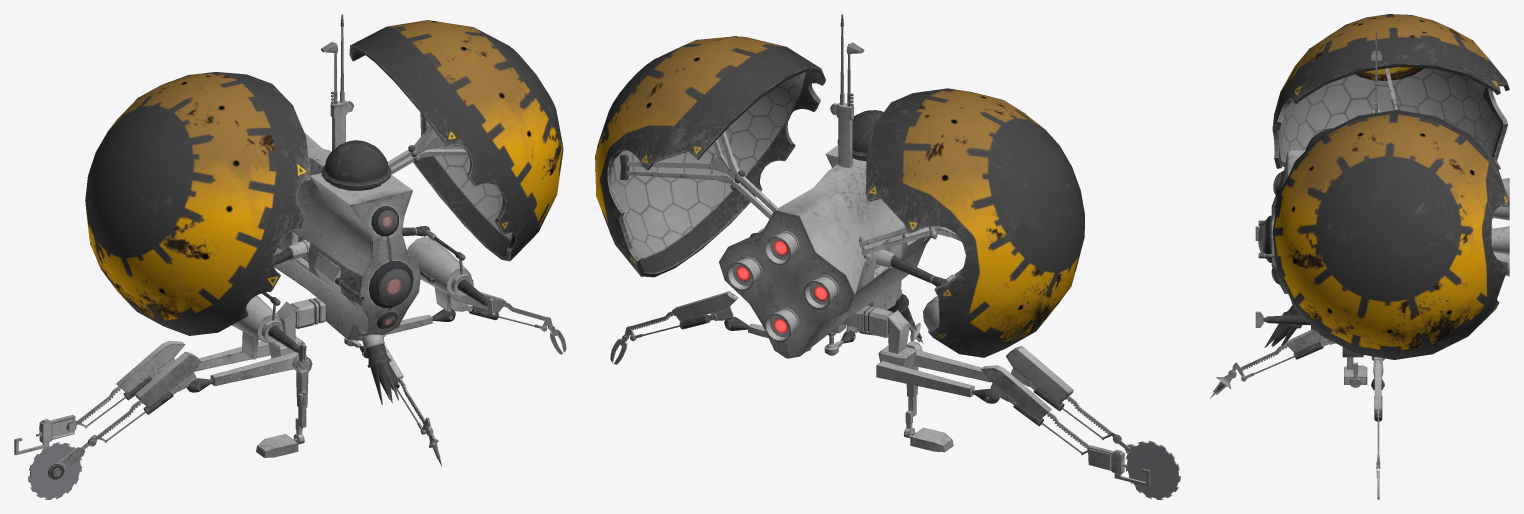
3 views of the same model, side by side, from view 1: azimuth 30°, elevation 25°; view 2: azimuth 150°, elevation 25°; view 3: azimuth 270°, elevation 25° (orthographic). The views are drawn at different scales.
Visible parts, largest first — view 1: Box038; view 2: Box038; view 3: Box038.
Part boxes in pixels (x1=…): Box038: x1=14, y1=14, x2=566, y2=499; Box038: x1=595, y1=14, x2=1180, y2=499; Box038: x1=1210, y1=14, x2=1509, y2=499.
Bounding box in the file's own units: 34.47 × 24.67 × 17.62.
2 materials, 2 textured.
